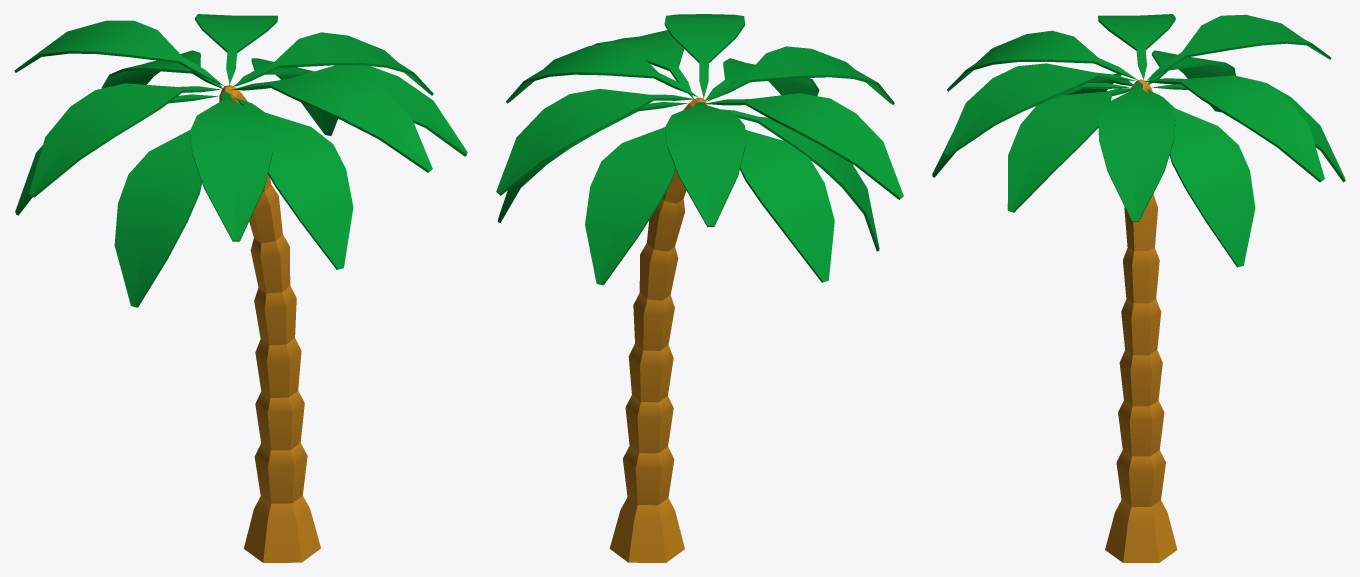
File: Palmera 02 (Modelado).fbx
The picture shows the model from 3 angles, left to right: view 1: azimuth 30°, elevation 25°; view 2: azimuth 150°, elevation 25°; view 3: azimuth 270°, elevation 25°; orthographic projection. The views are drawn at different scales.
Visible parts, largest first — view 1: Palmera_02_Modelado; view 2: Palmera_02_Modelado; view 3: Palmera_02_Modelado.
Part boxes in pixels (<box>): Palmera_02_Modelado: <box>14,14,467,562</box>; Palmera_02_Modelado: <box>496,14,903,562</box>; Palmera_02_Modelado: <box>932,14,1345,562</box>.
Bounding box in the file's own units: 2.44 × 2.9 × 2.31.
